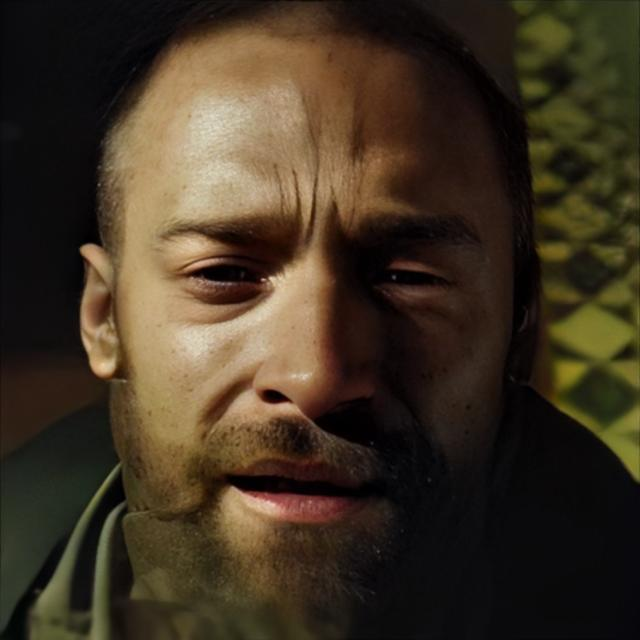sad: (124, 32, 514, 604)
